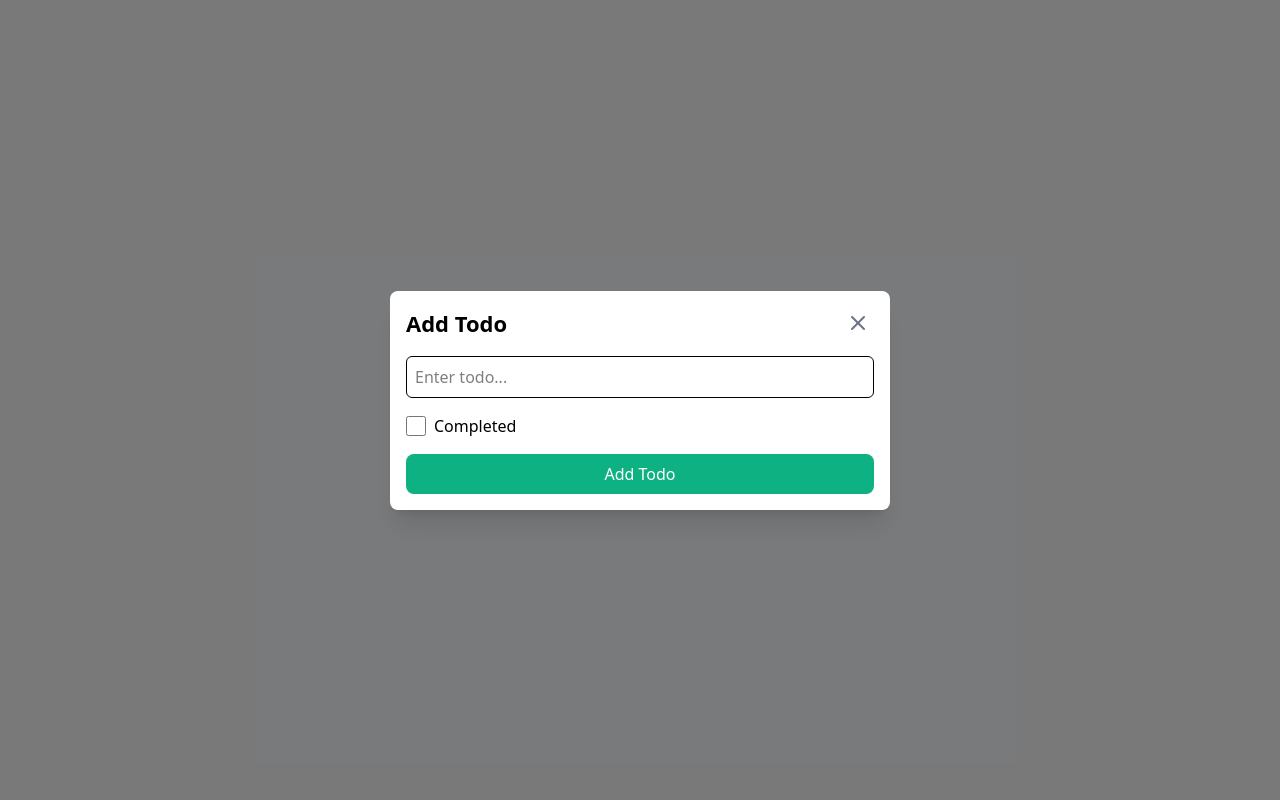
Scenario: MakeTodo Component › displays 'Saving...' when submitting
This screenshot has width=1280, height=800.
In the field with placeholder "Enter todo...": (640, 376) [406, 356, 874, 398], type "New Todo"
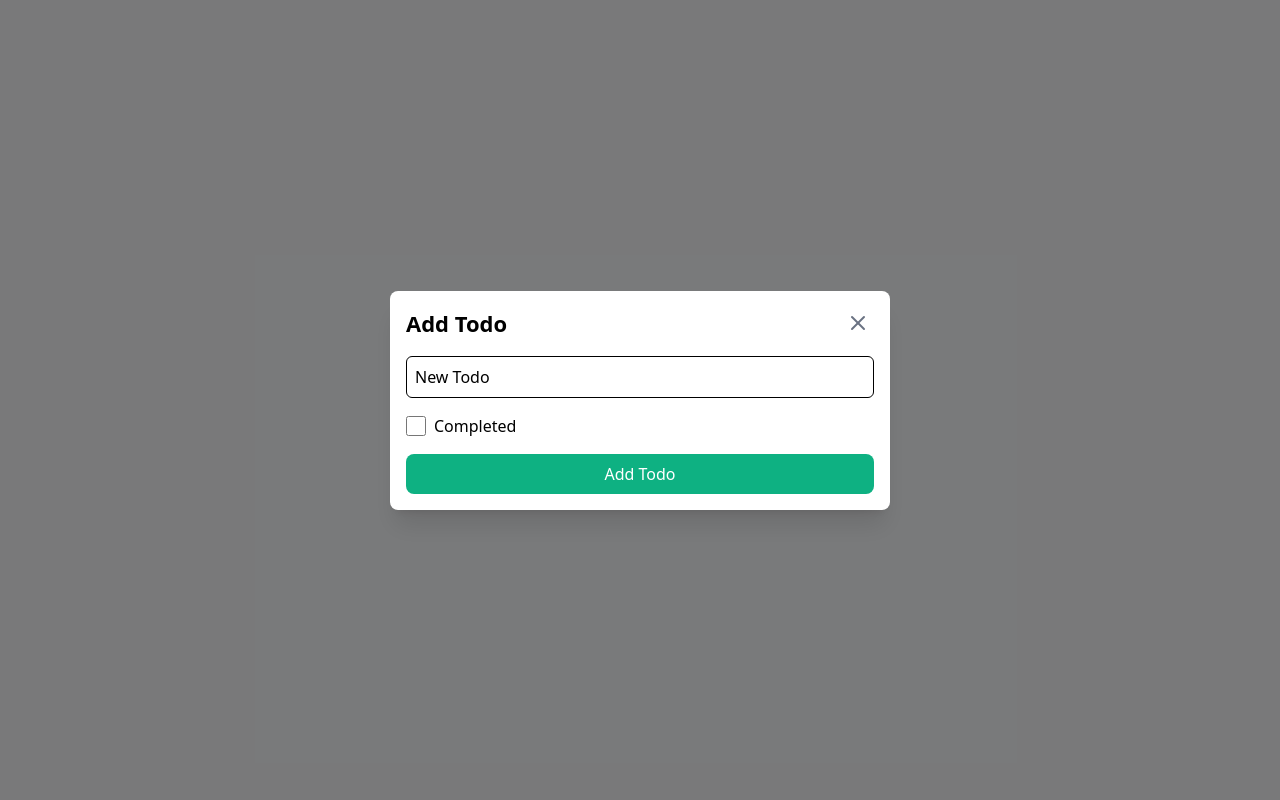
Click the button with test id "submit-btn": click(640, 474) [406, 454, 874, 494]
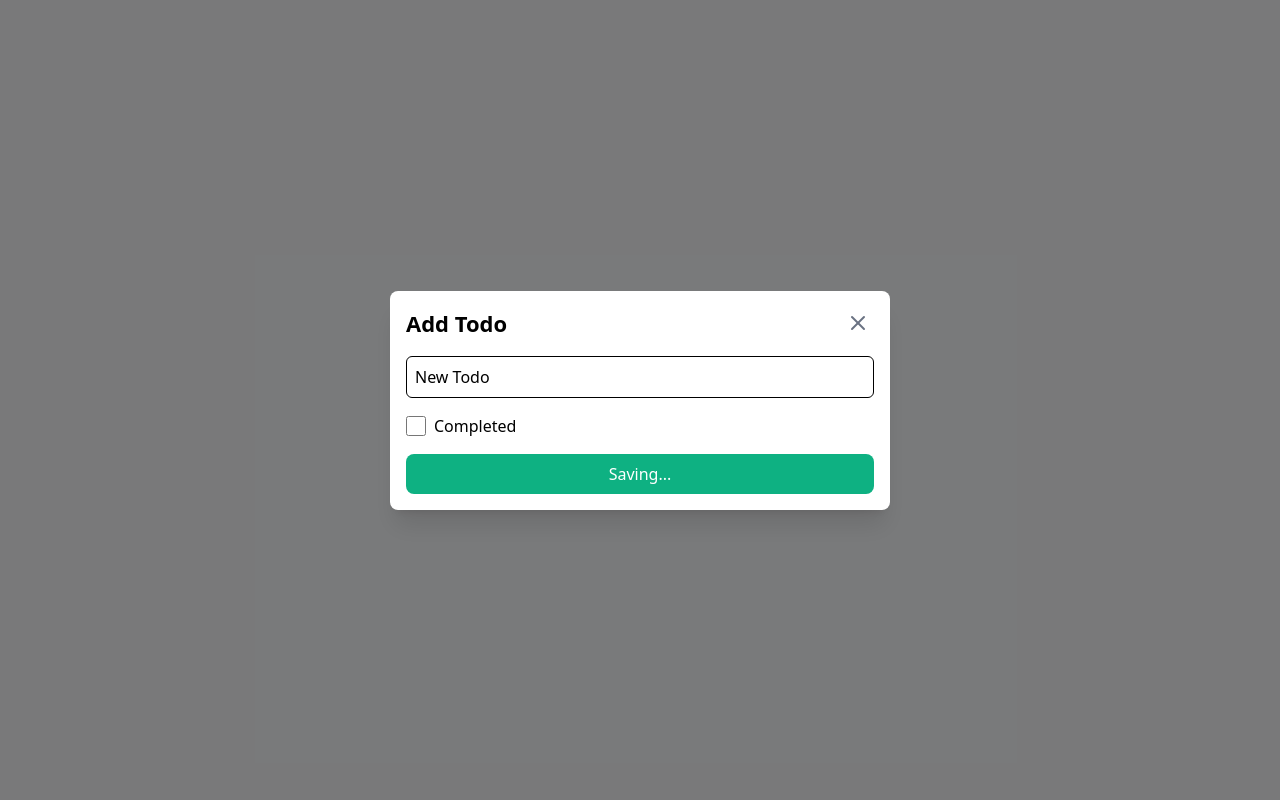
Expected: the button with test id "submit-btn" reads "Saving...", [406, 454, 874, 494]
